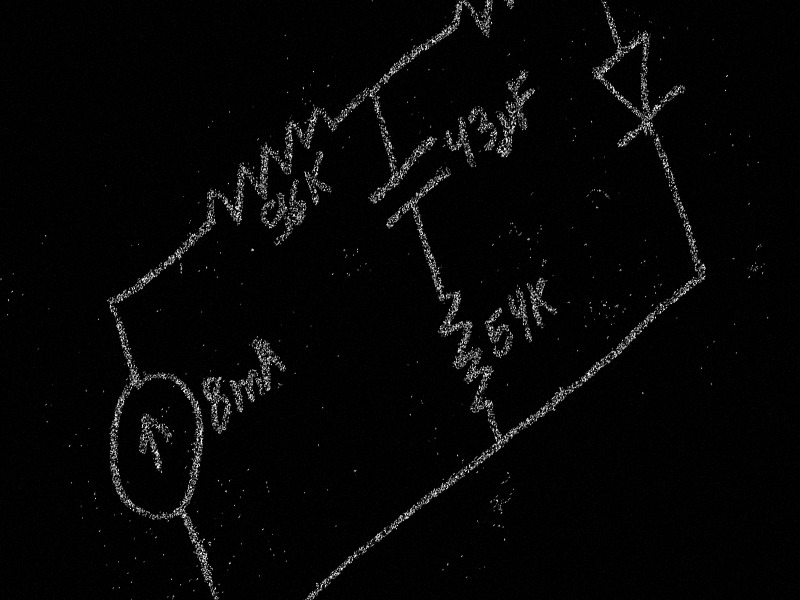3: (464, 96, 503, 162)
4: (440, 110, 482, 184), (504, 281, 540, 351)
5: (480, 302, 518, 366)
6: (281, 174, 313, 231)
8: (196, 364, 239, 440)
9: (256, 187, 298, 255)
A: (248, 324, 289, 396)
F: (504, 63, 544, 132)
k: (523, 268, 560, 332), (299, 148, 337, 210)
m: (225, 358, 268, 419)
u: (491, 97, 525, 155)
